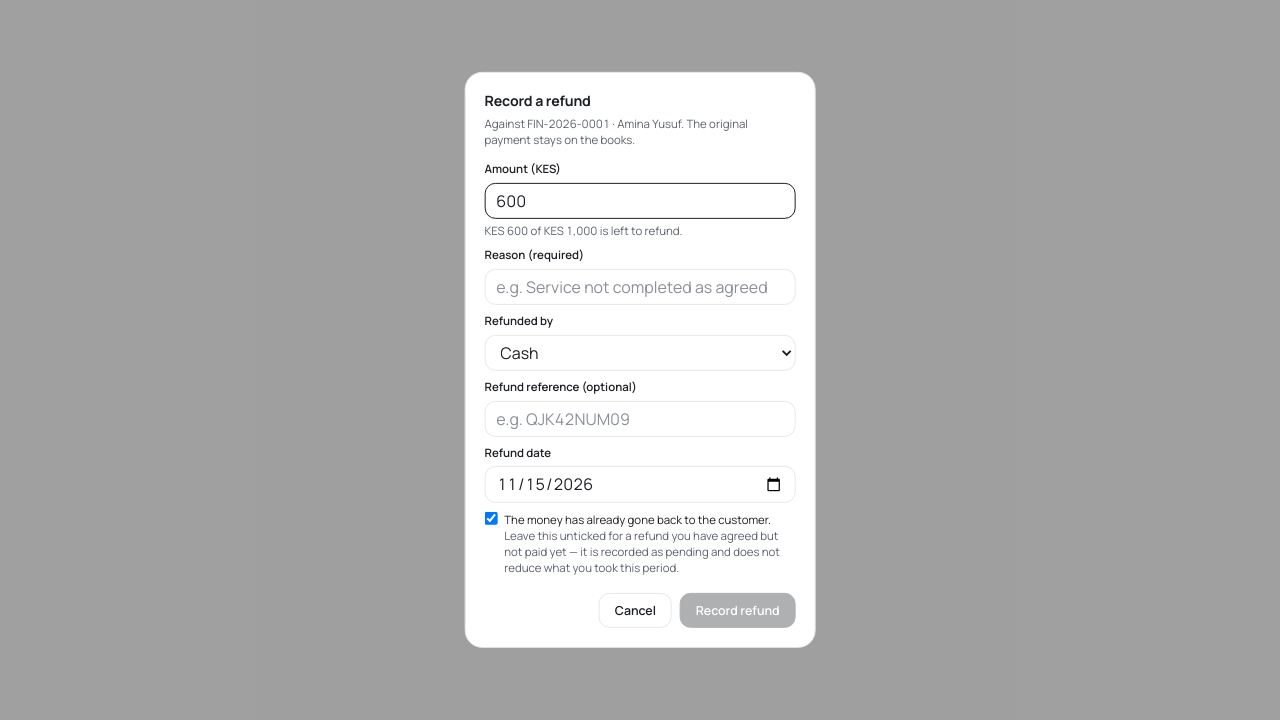
RefundDialog › will not record a refund without a reason
Expected: the button "Record refund" is disabled, [680,593,795,628]
Type "Service cut short" into the field labelled "Reason (required)".
click(640, 287); type("Service cut short")  # box [484,268,796,305]
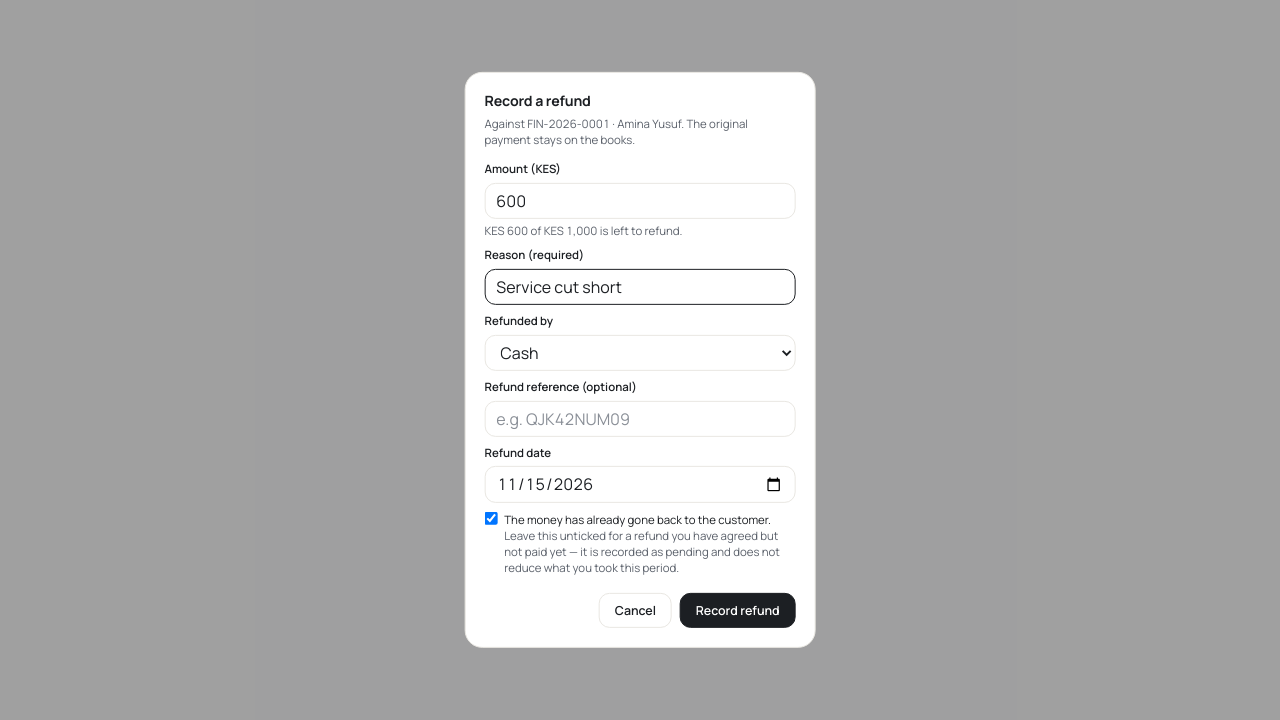
Now the button "Record refund" is enabled, box [680,593,795,628]
